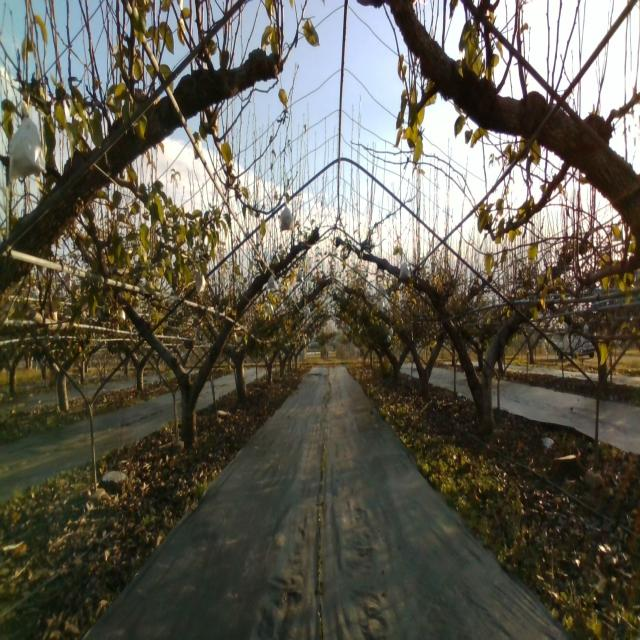pearbags: (8, 99, 46, 182), (279, 200, 295, 233), (195, 269, 206, 296), (399, 260, 411, 281)
